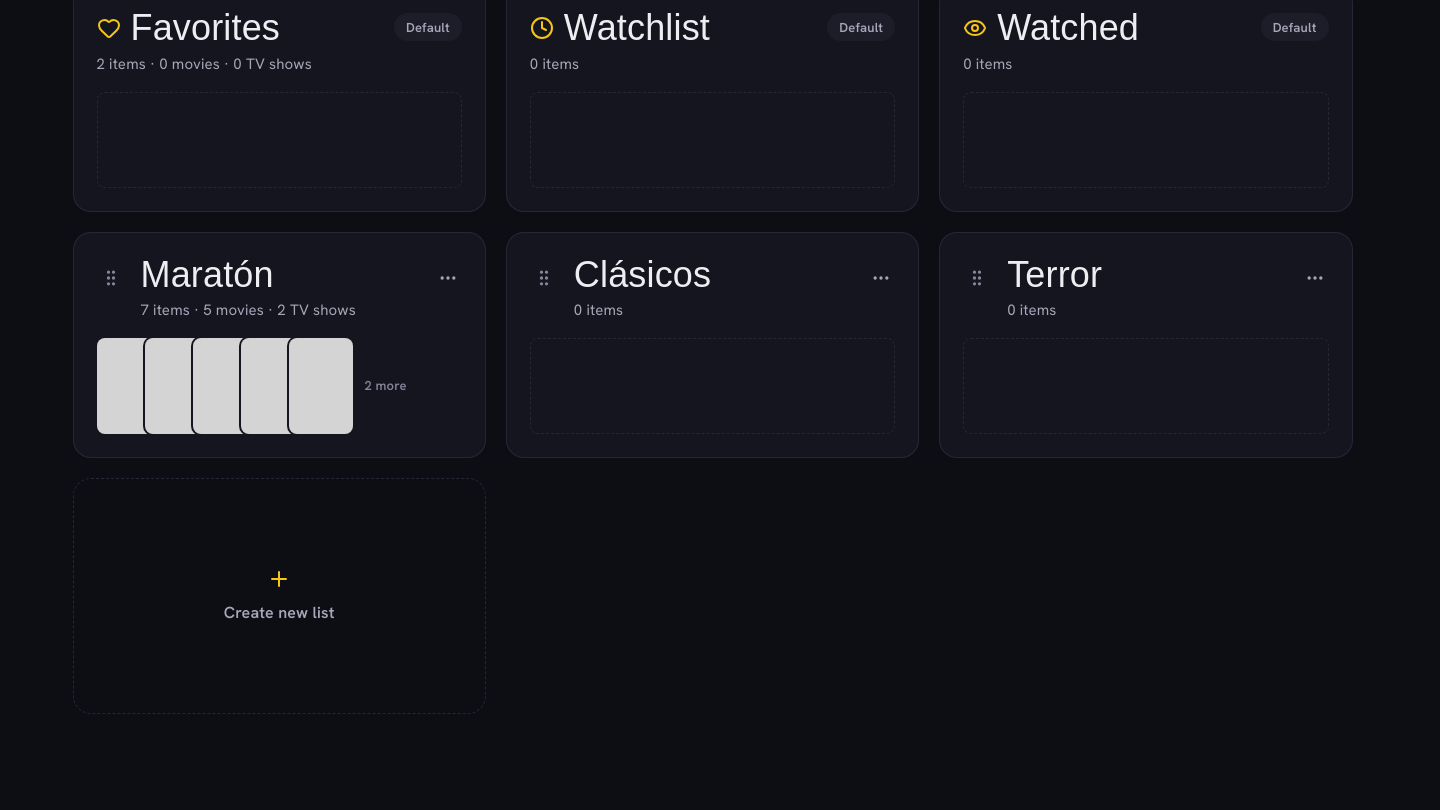
Test: Listas: vista general › crea una lista al final, la anuncia y valida el nombre antes de enviar
The image size is (1440, 810).
(page scrolled)
Expected: the link "Maratón" is shown, left=140, top=256, right=274, bottom=294
Click the button "Create new list" at (279, 612), box left=72, top=478, right=486, bottom=714
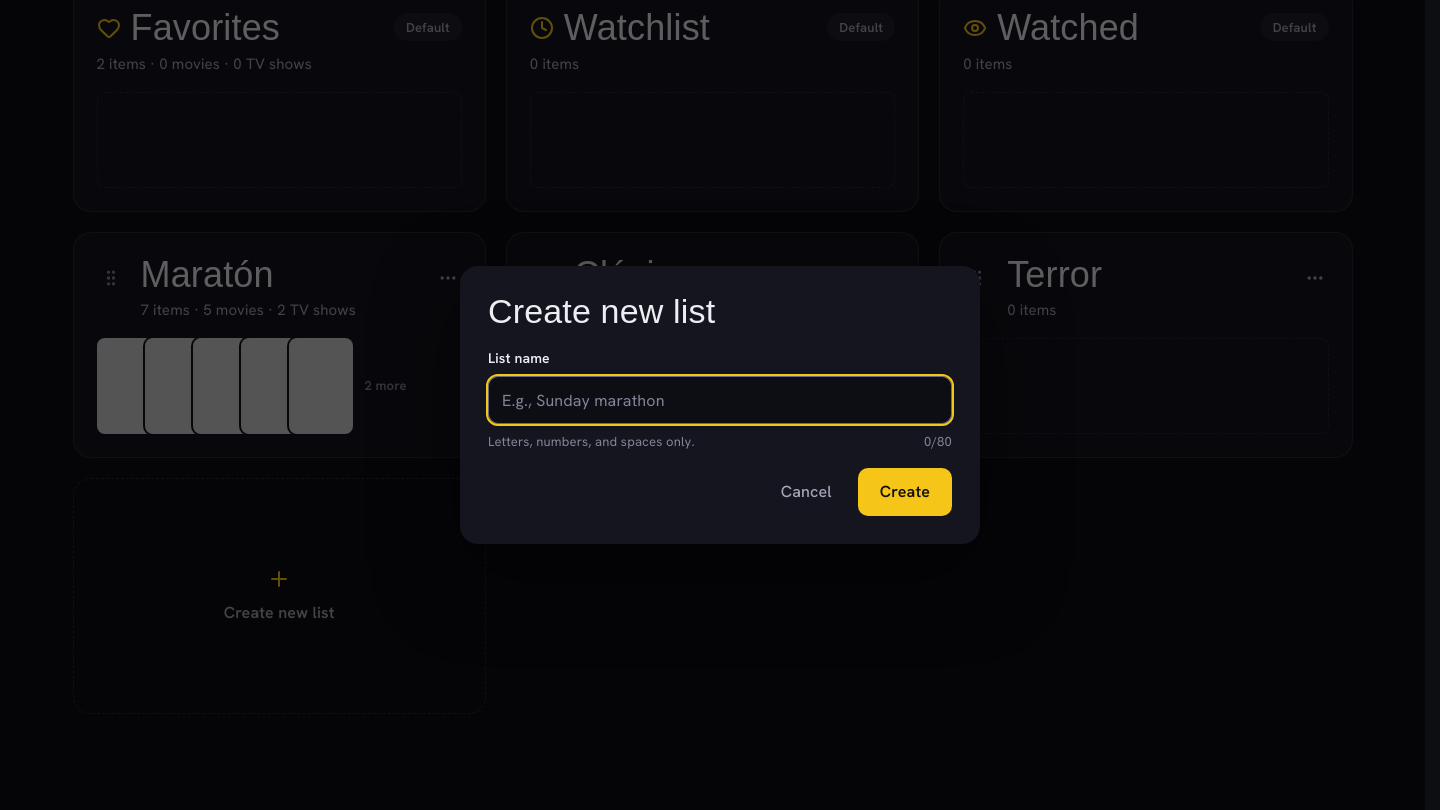
Click the button "Create" at (905, 492), box left=858, top=468, right=952, bottom=516
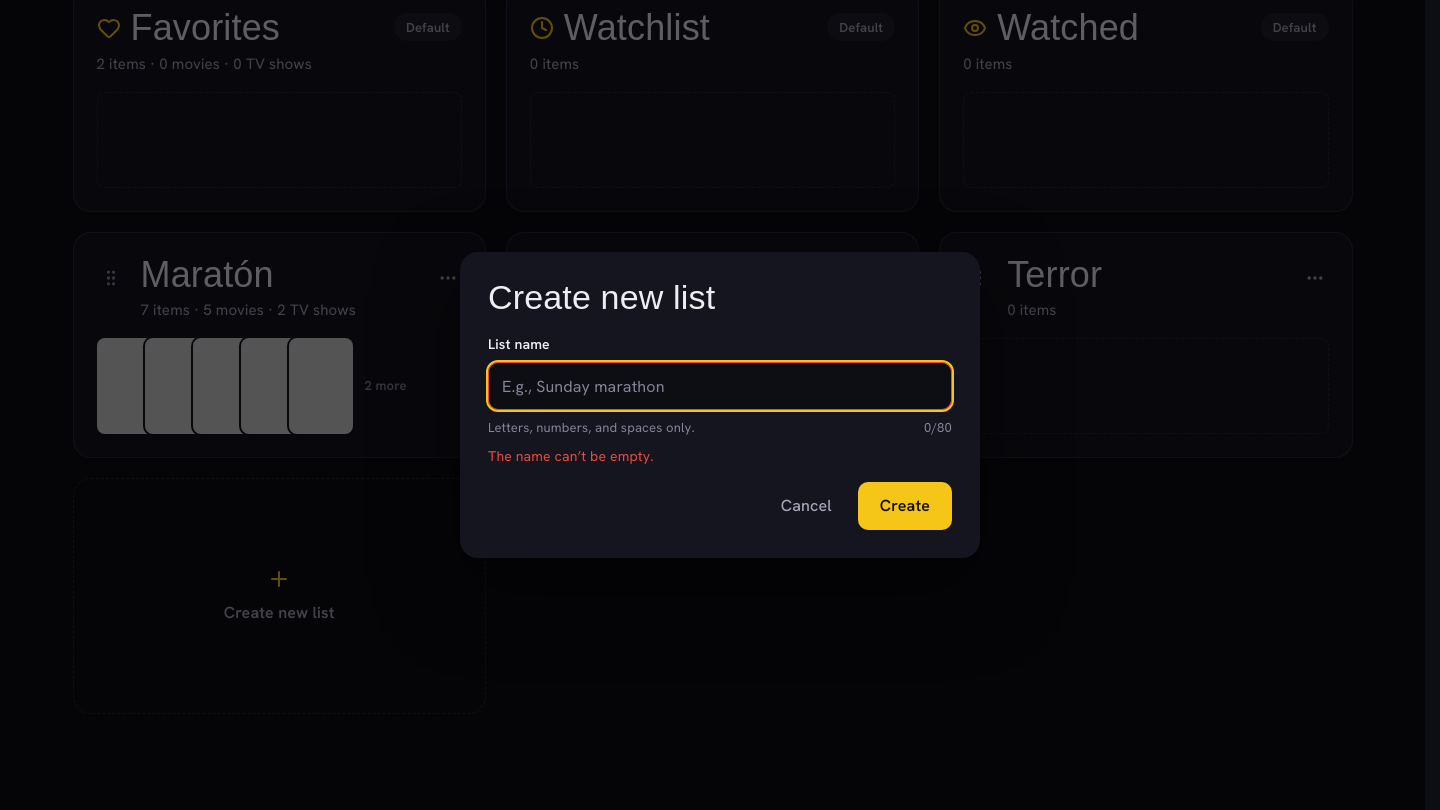
Expected: the message reads "The name can’t be empty.", left=488, top=447, right=654, bottom=465
Type "Cine #1" into the field labelled "List name" at (720, 386), box left=488, top=362, right=952, bottom=410
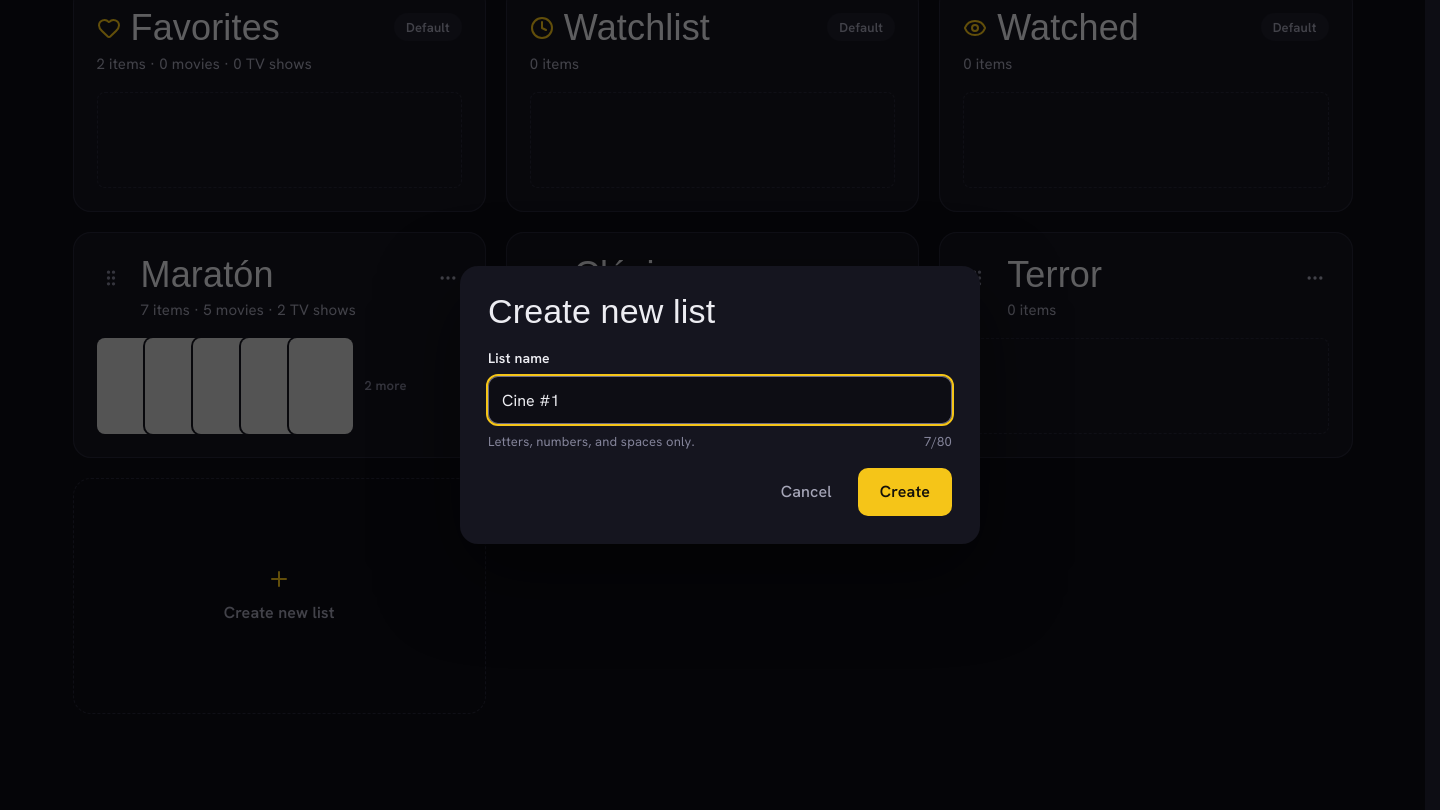
Click the button "Create" at (905, 492), box left=858, top=468, right=952, bottom=516
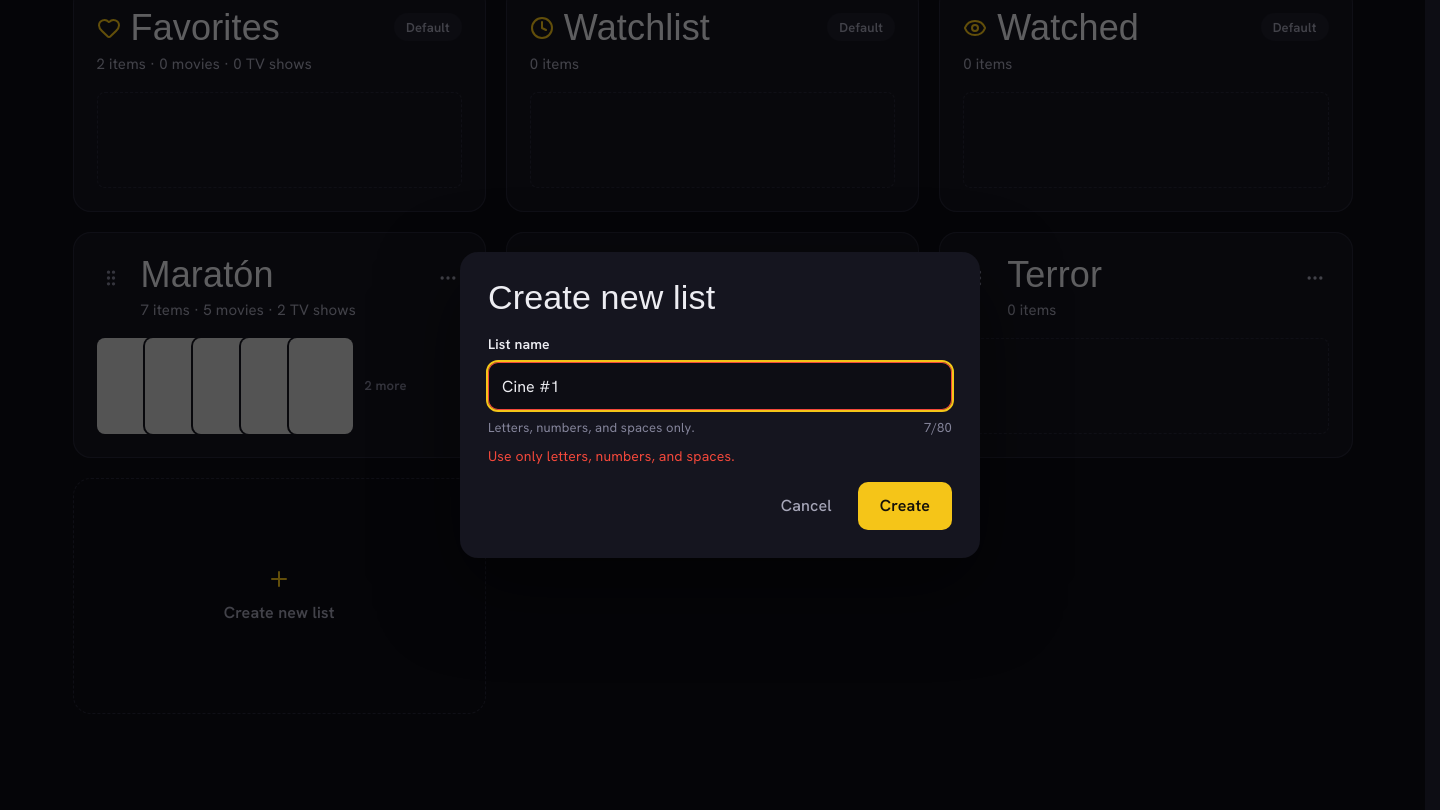
Expected: the message reads "Use only letters, numbers, and spaces.", left=488, top=447, right=735, bottom=465
Clear the field labelled "List name" at (720, 386), box left=488, top=362, right=952, bottom=410
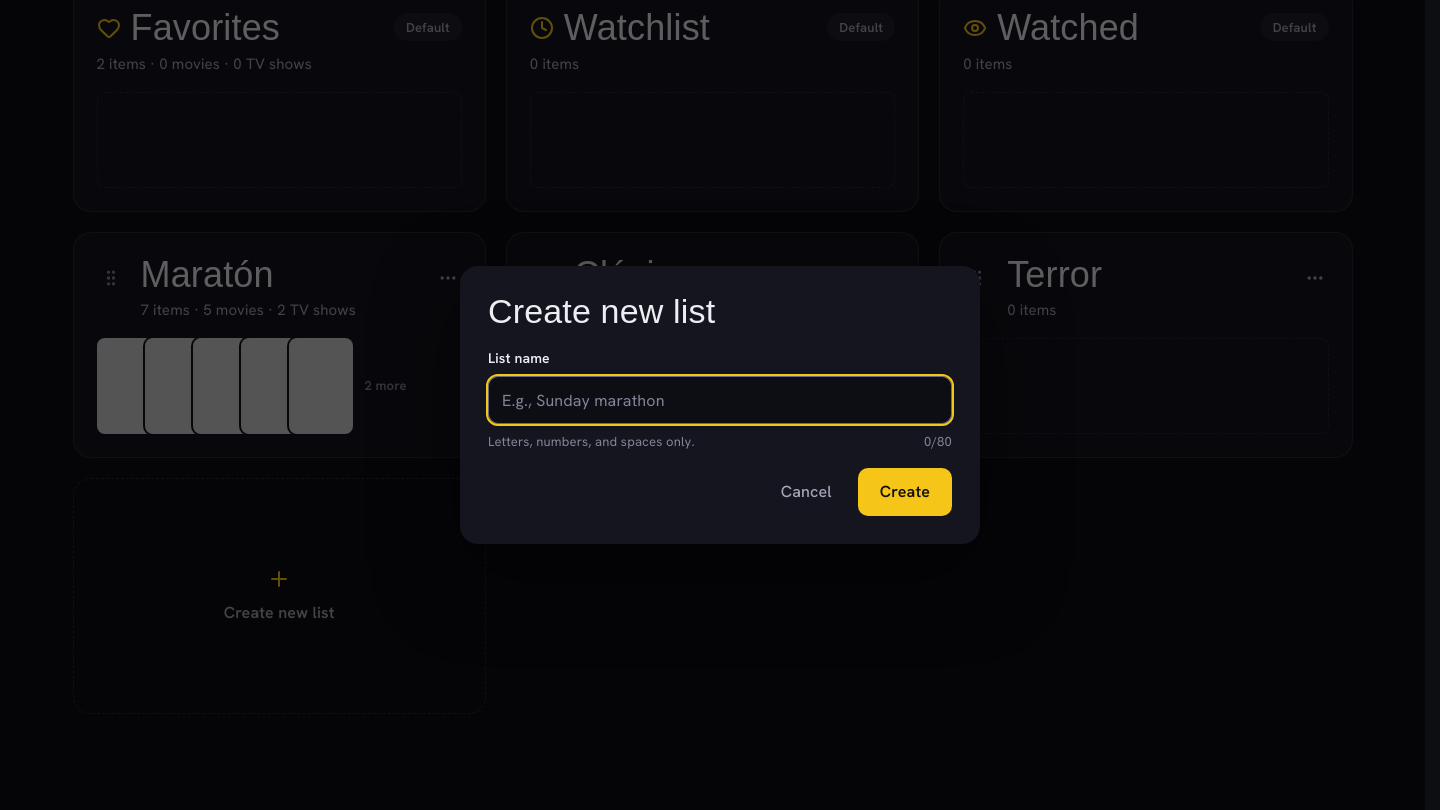
Type "Sunday marathon" into the field labelled "List name" at (720, 400), box left=488, top=376, right=952, bottom=424
Click the button "Create" at (905, 492), box left=858, top=468, right=952, bottom=516
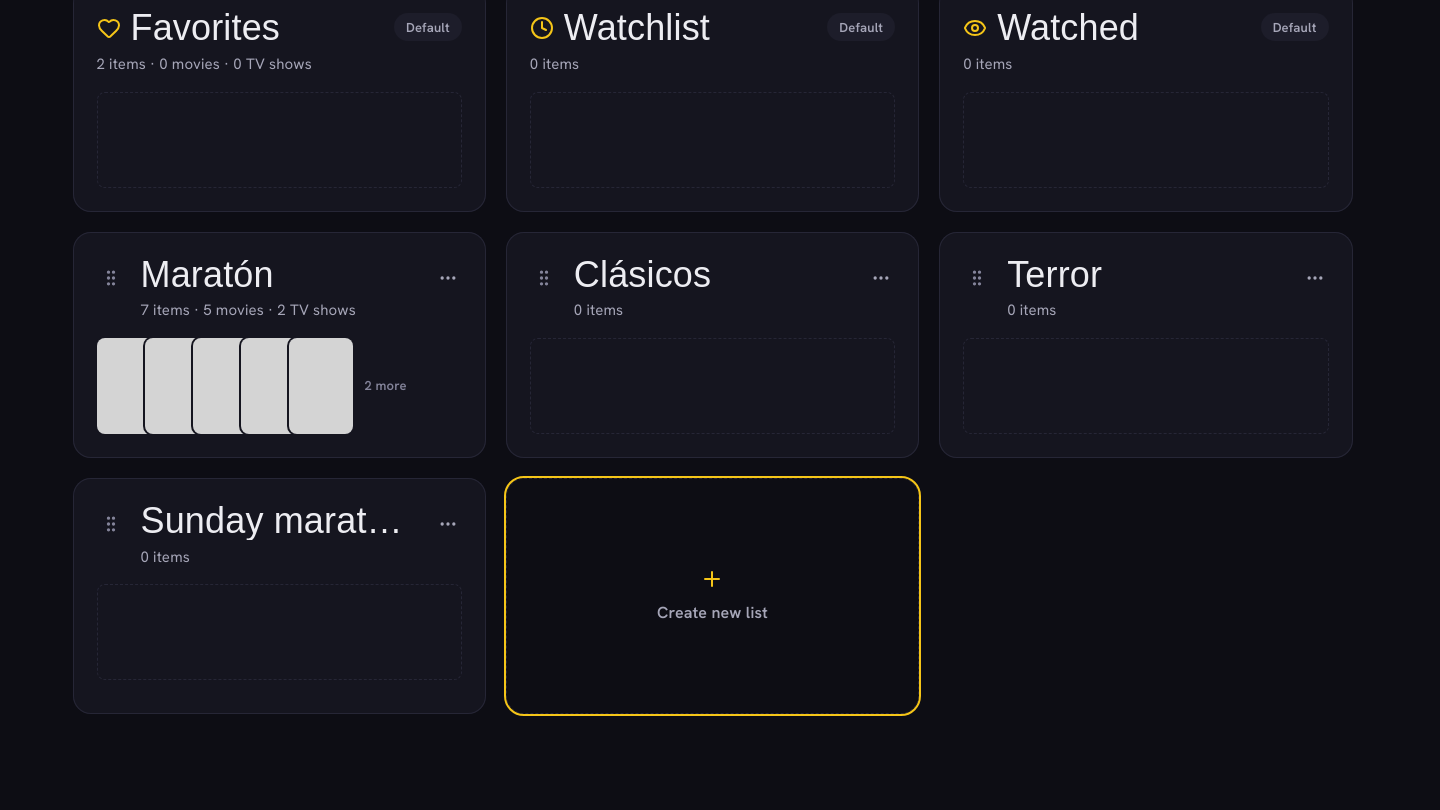
Expected: the link "Sunday marathon" is shown, left=140, top=502, right=418, bottom=540
